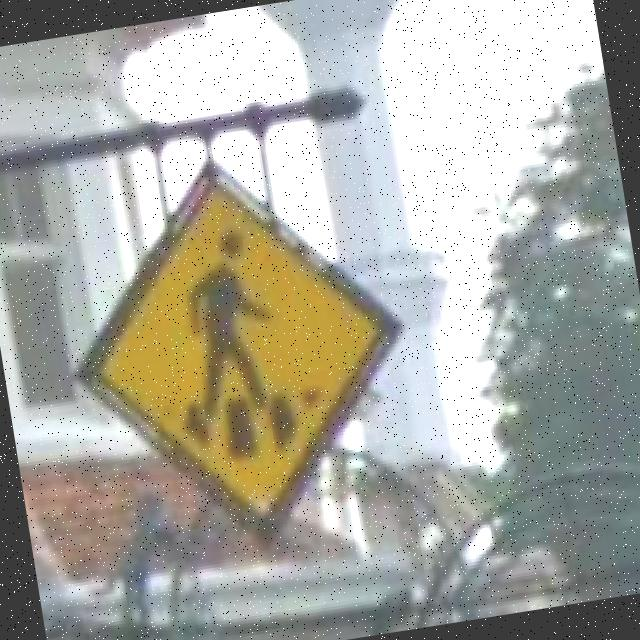Przejscie dla pieszych: (83, 163, 391, 516)
